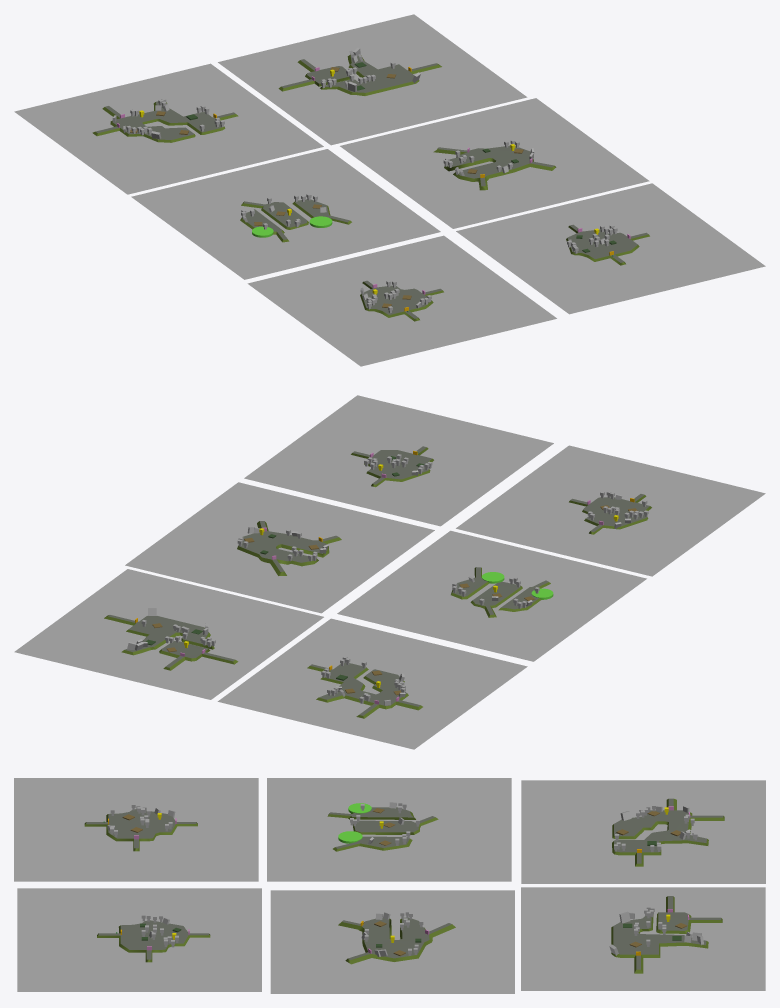
The model's file is Salas Nivel 2.fbx.
3 views of the same model, one above another, from view 1: azimuth 30°, elevation 25°; view 2: azimuth 150°, elevation 25°; view 3: azimuth 270°, elevation 25° (orthographic). The views are drawn at different scales.
Visible parts, largest first — view 1: Rios (×4), Rios2, Rios1, Playable_Area (×3), Playable_area, PlayableArea, Playable_Area1; view 2: Rios (×4), Rios1, Rios2, Playable_Area (×3), Playable_area, PlayableArea, Playable_Area1; view 3: Rios (×4), Rios1, Rios2, Playable_Area (×3), Playable_area, PlayableArea, Playable_Area1.
Boxes of the visible parts, x1,y1,x2,y2 form: Rios (×4): [14, 14, 649, 279]; Rios2: [247, 235, 556, 366]; Rios1: [456, 183, 765, 314]; Playable_Area (×3): [240, 54, 443, 321]; Playable_area: [92, 101, 238, 142]; PlayableArea: [433, 145, 556, 190]; Playable_Area1: [566, 224, 649, 265]; Rios (×4): [14, 482, 646, 749]; Rios1: [244, 395, 553, 526]; Rios2: [456, 445, 765, 576]; Playable_Area (×3): [104, 494, 651, 670]; Playable_area: [307, 663, 422, 718]; PlayableArea: [237, 521, 341, 575]; Playable_Area1: [351, 446, 433, 487]; Rios (×4): [267, 778, 765, 993]; Rios1: [17, 888, 261, 991]; Rios2: [14, 778, 258, 881]; Playable_Area (×3): [84, 807, 722, 973]; Playable_area: [612, 798, 724, 866]; PlayableArea: [338, 917, 455, 964]; Playable_Area1: [97, 920, 210, 962].
Size of the model in its own units: 404 by 16.96 by 599.
